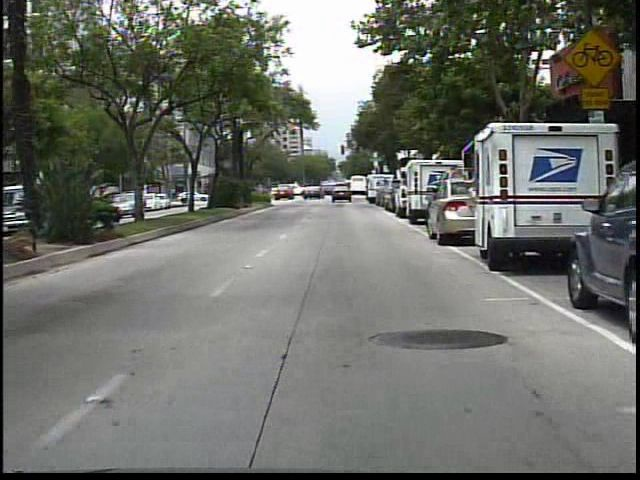person: (339, 183, 353, 203)
